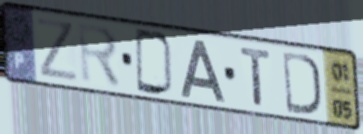A: (178, 38, 228, 105)
D: (133, 26, 177, 98), (281, 49, 324, 118)
R: (75, 19, 124, 91)
T: (238, 45, 274, 109)
Z: (35, 16, 81, 84)
